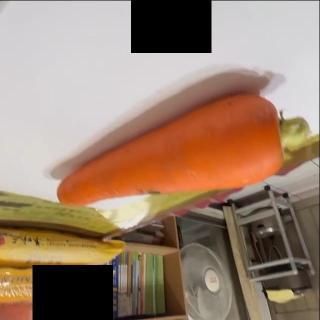carrot: (56, 90, 310, 208)
